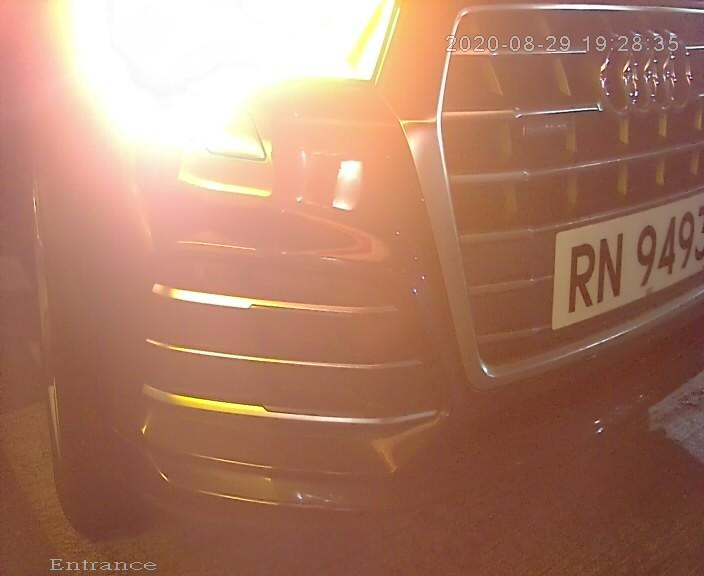License Plate: (541, 183, 692, 343)
